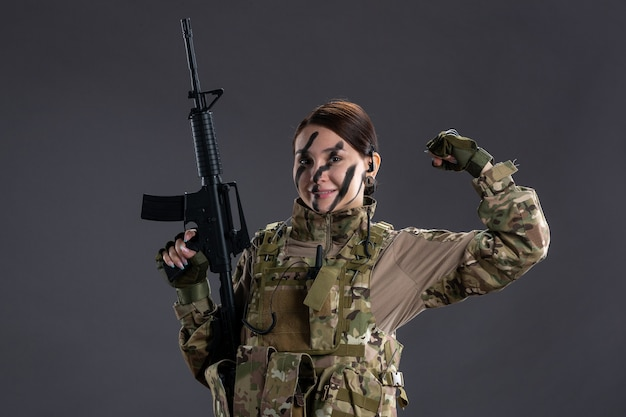gun: (141, 16, 253, 313)
